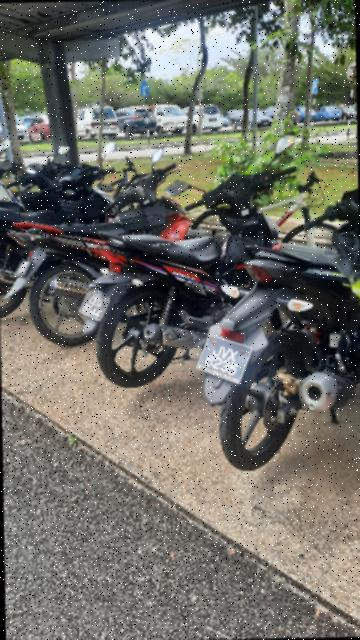License_Plate: (191, 331, 258, 389), (74, 287, 116, 326)
motorcycle: (80, 130, 318, 389), (190, 178, 360, 473)
